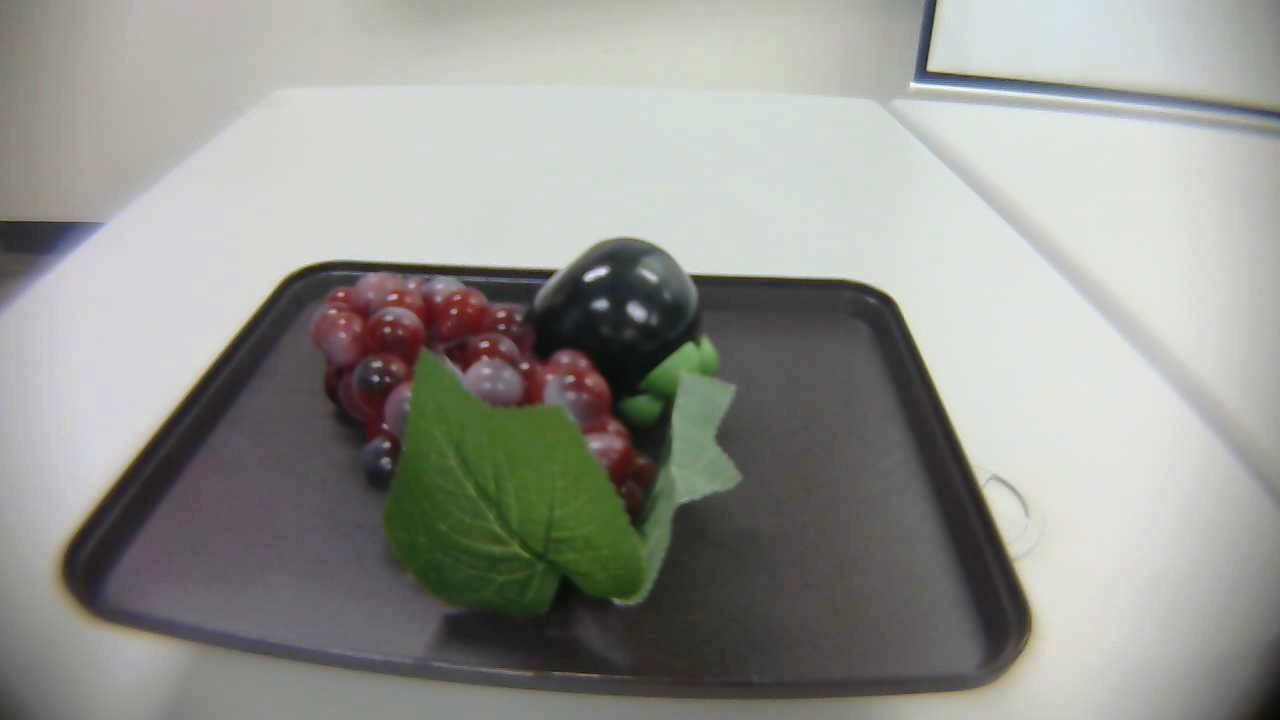grape: (297, 253, 740, 638)
mangosteen: (509, 225, 727, 425)
